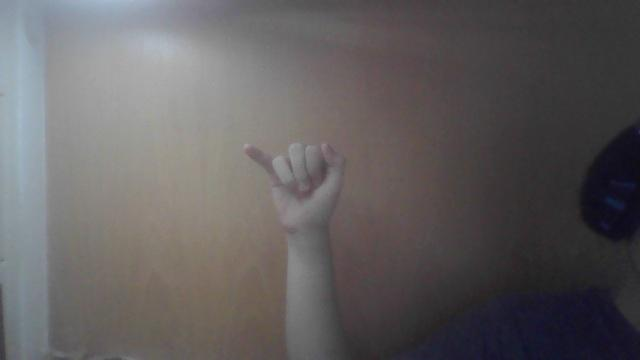Right: (234, 138, 350, 224)
